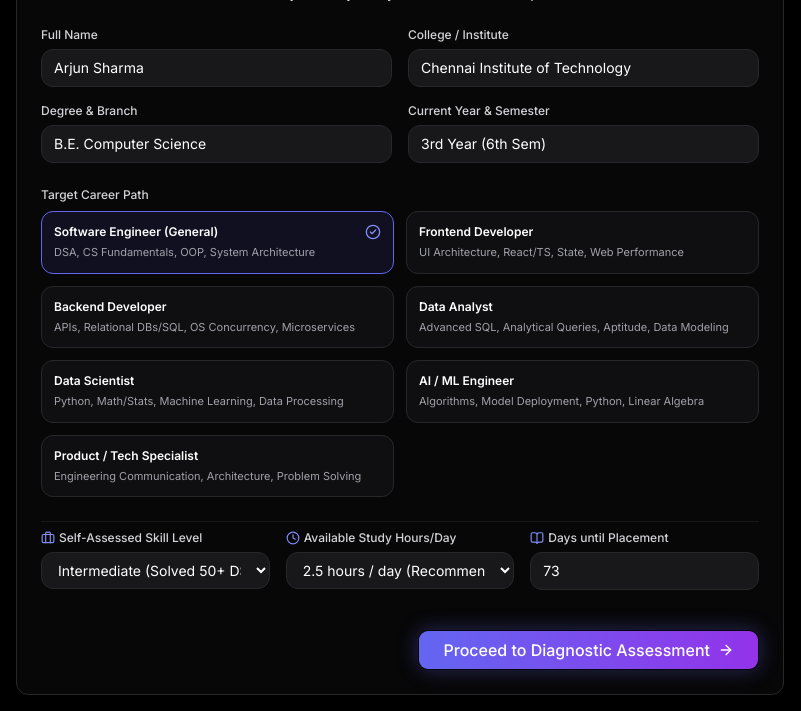
OnboardingFlow - Core User Personalization Journey › transitions from Step 1 to Step 2 upon clicking Proceed
This screenshot has width=801, height=711.
(page scrolled)
Click the button "Proceed to Diagnostic Assessment" at (589, 650), box 418,630 -> 759,670
(page scrolled)
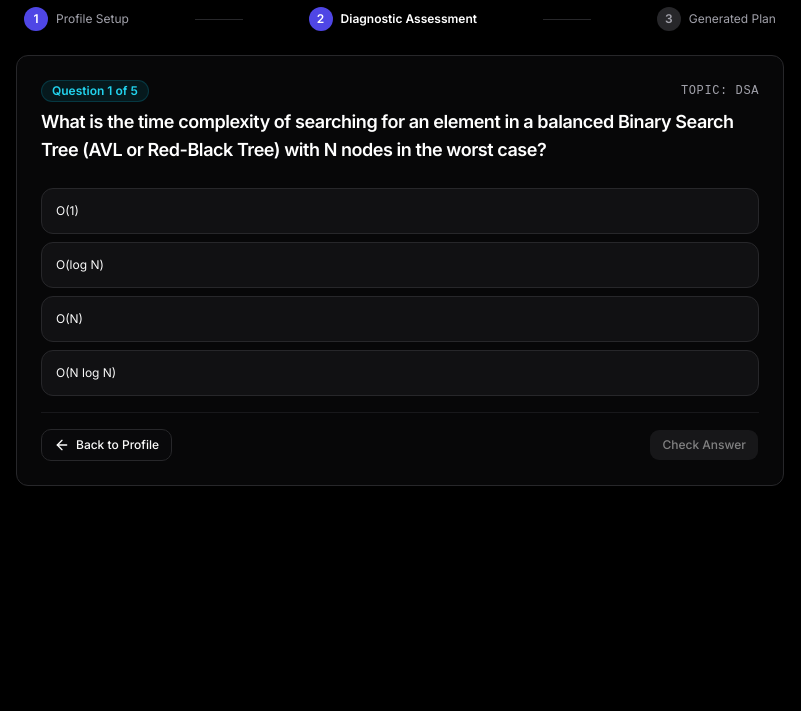
Check: the text "Question 1 of 5" is shown, box 41,80 -> 149,102
